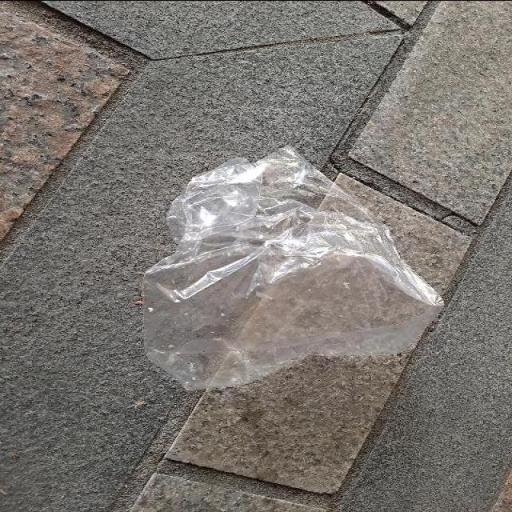plastic-bag: (136, 142, 448, 392)
